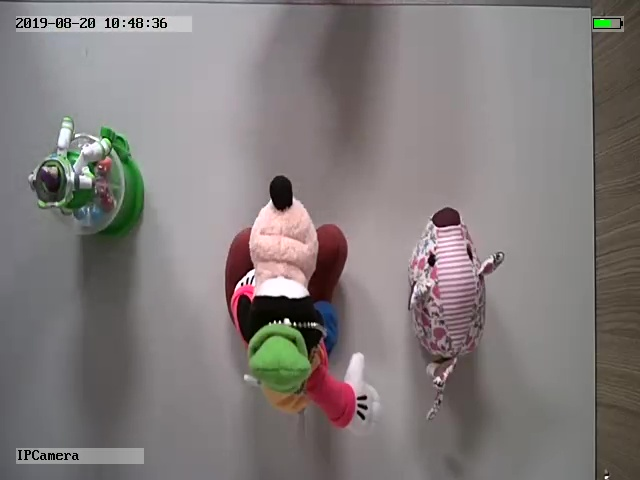buzz: (24, 115, 150, 242)
goofy: (221, 172, 382, 437)
pig: (406, 207, 506, 422)
